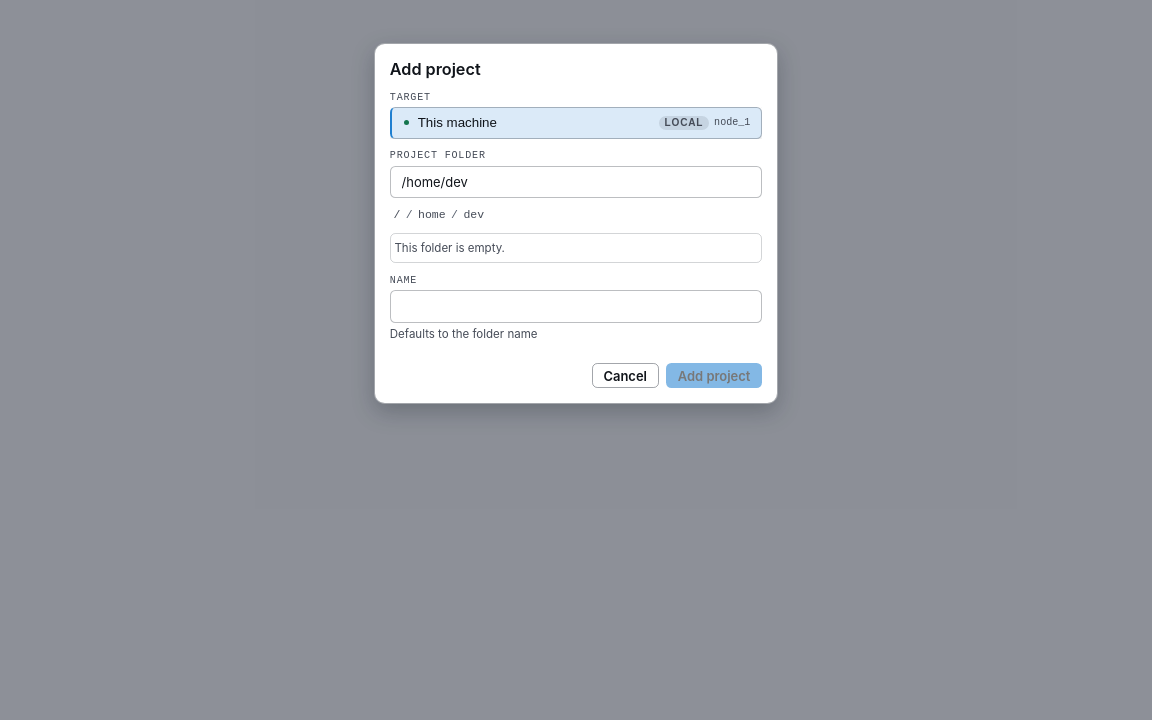
Test: AddProjectDialog (design spec §3.4, §4.2; issue #507) › the submit button is disabled until a folder is chosen
The image size is (1152, 720).
Expected: the button with test id "add-project-submit" is disabled, [666,363,762,388]
Replace the text in the field with test id "add-project-path" with "/home/dev/project" at (576, 182), box [390,166,762,198]
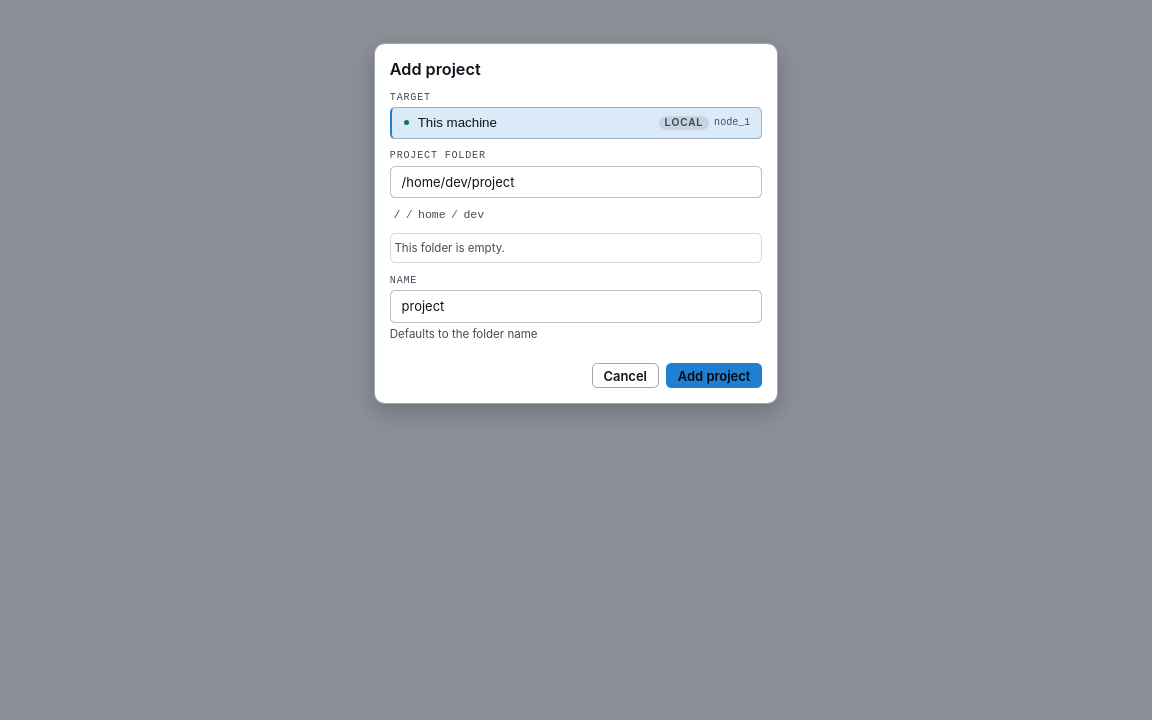
Now the button with test id "add-project-submit" is enabled, box [666,363,762,388]
